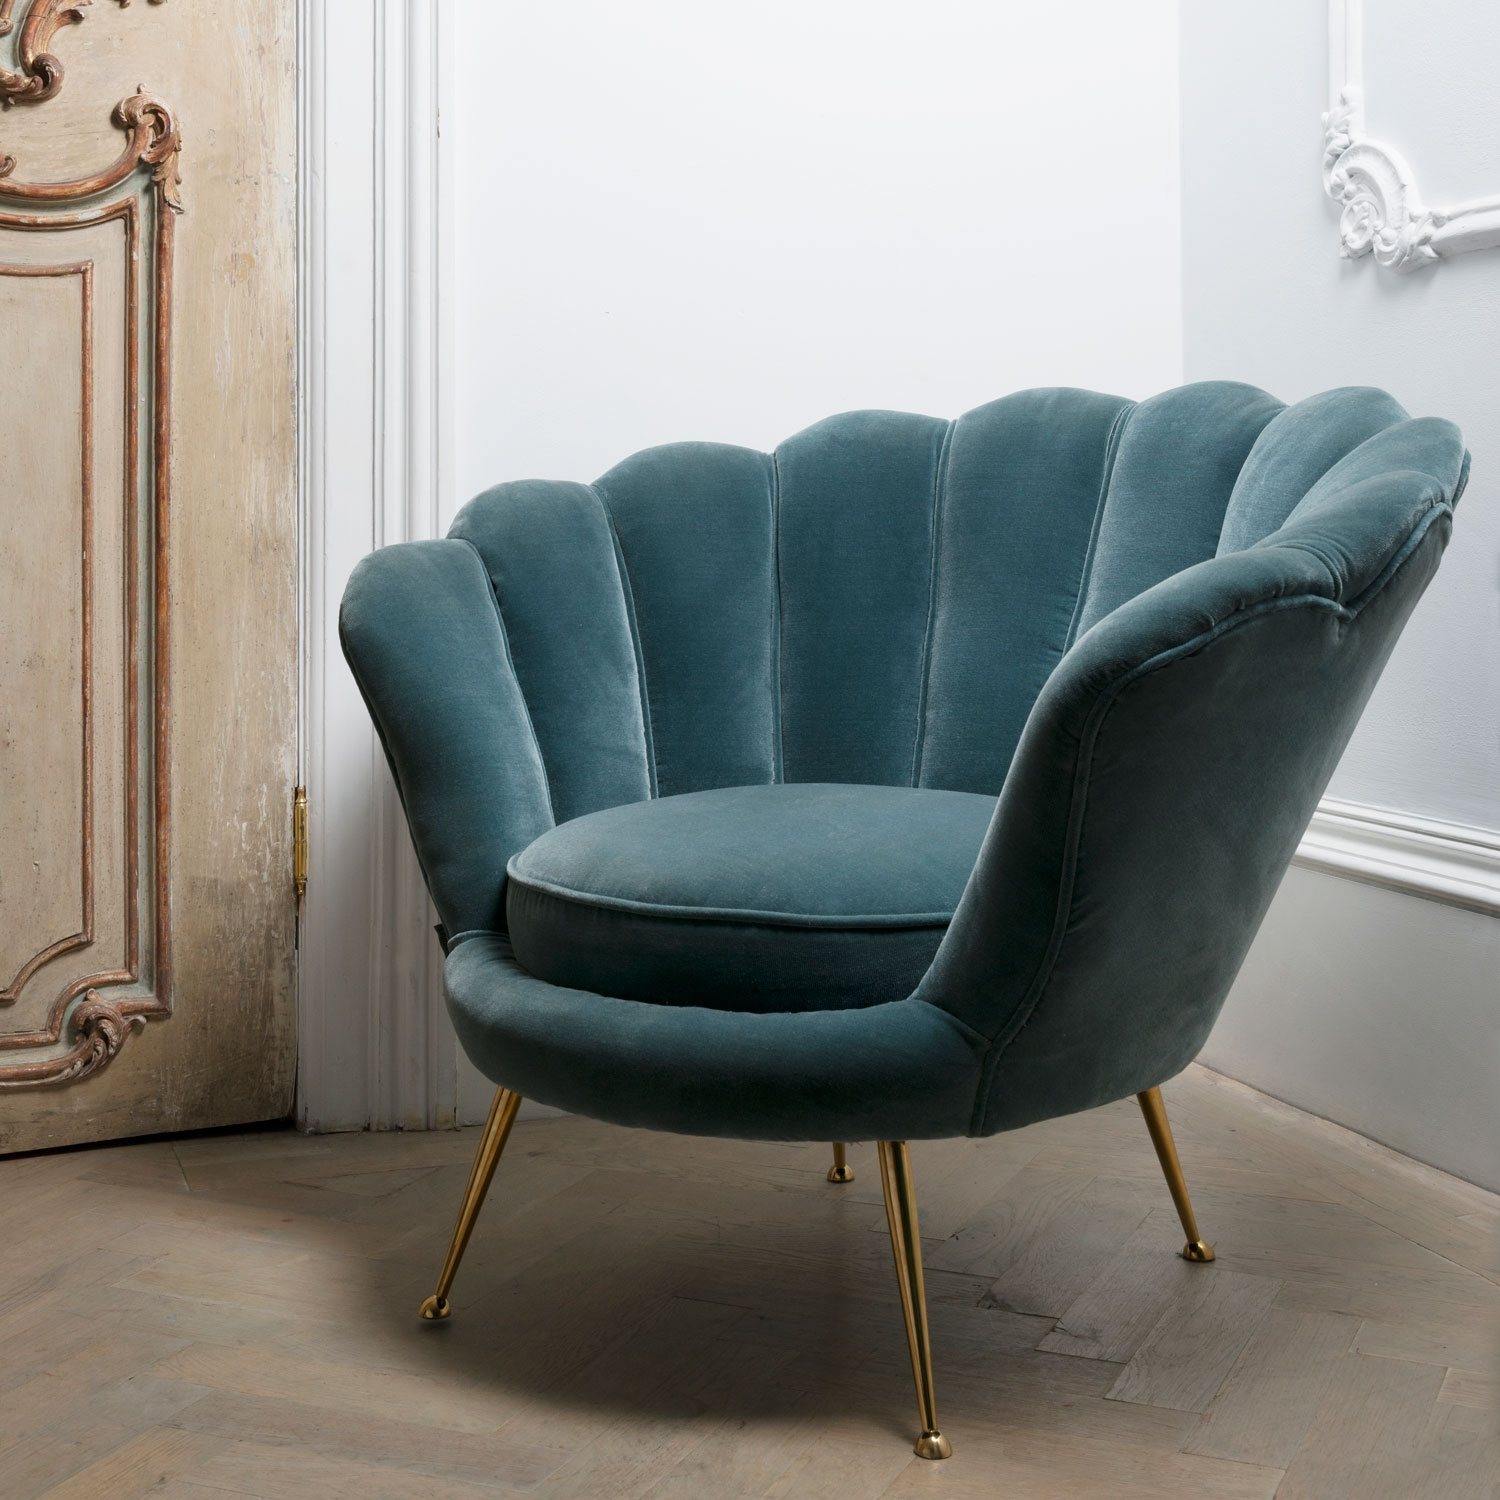chairs: (334, 370, 1473, 1462)
